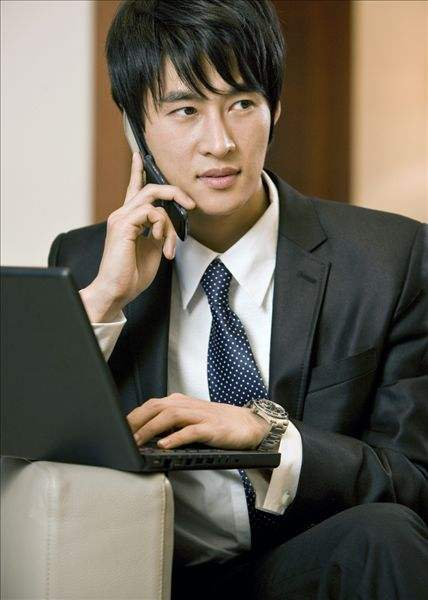calling: (97, 103, 199, 300)
